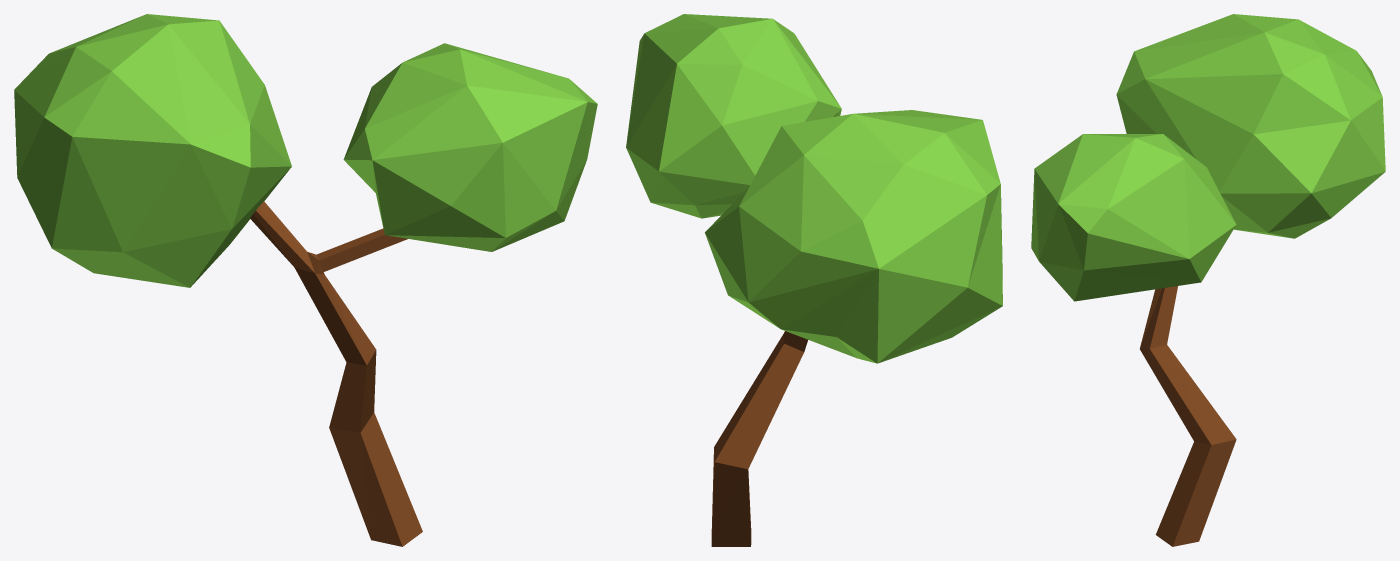
File: tree.dae
The picture shows the model from 3 angles, left to right: view 1: azimuth 30°, elevation 25°; view 2: azimuth 150°, elevation 25°; view 3: azimuth 270°, elevation 25°; orthographic projection. The views are drawn at different scales.
Parts seen in each view (by area): view 1: Icosphere, Icosphere_001, Cube; view 2: Icosphere, Icosphere_001, Cube; view 3: Icosphere, Icosphere_001, Cube.
Part boxes in pixels (<box>): Icosphere: <box>14,14,291,287</box>; Icosphere_001: <box>343,43,597,251</box>; Cube: <box>250,201,422,546</box>; Icosphere: <box>705,110,1002,363</box>; Icosphere_001: <box>626,14,841,218</box>; Cube: <box>711,331,807,546</box>; Icosphere: <box>1116,14,1385,238</box>; Icosphere_001: <box>1031,134,1236,301</box>; Cube: <box>1140,286,1236,546</box>.
Size of the model in its own units: 2.3 by 1.84 by 2.48.
